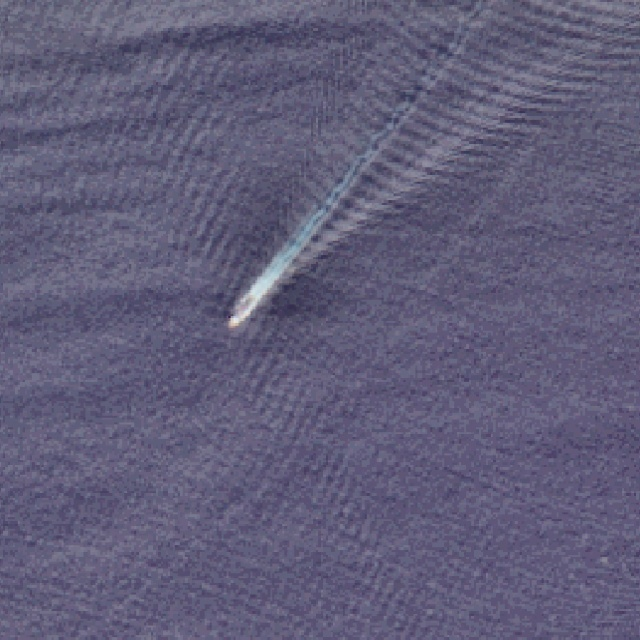wake: (172, 101, 433, 379)
